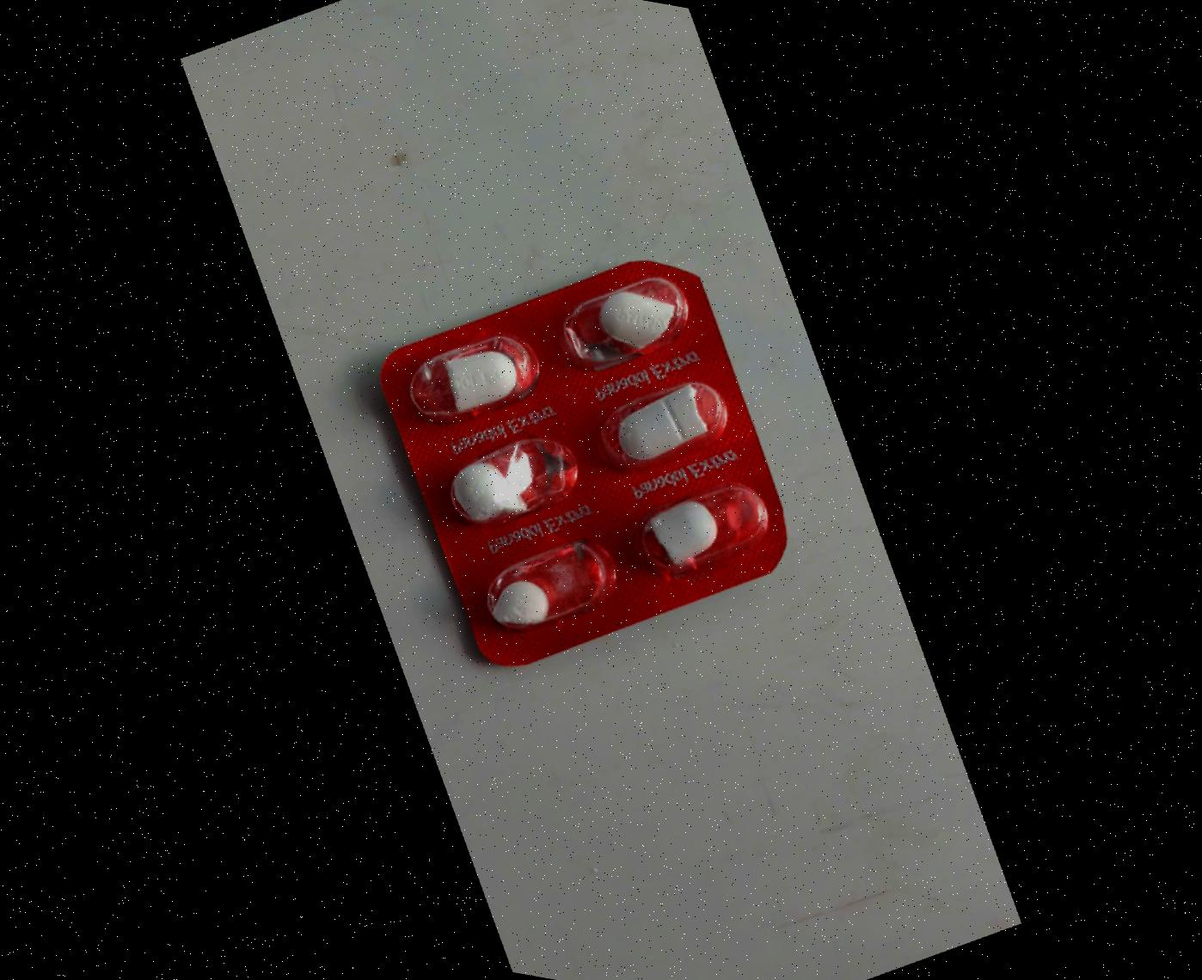Partial: (460, 503, 646, 651), (605, 458, 790, 606), (535, 255, 721, 402), (380, 309, 566, 456), (423, 404, 608, 551), (573, 346, 758, 493)
